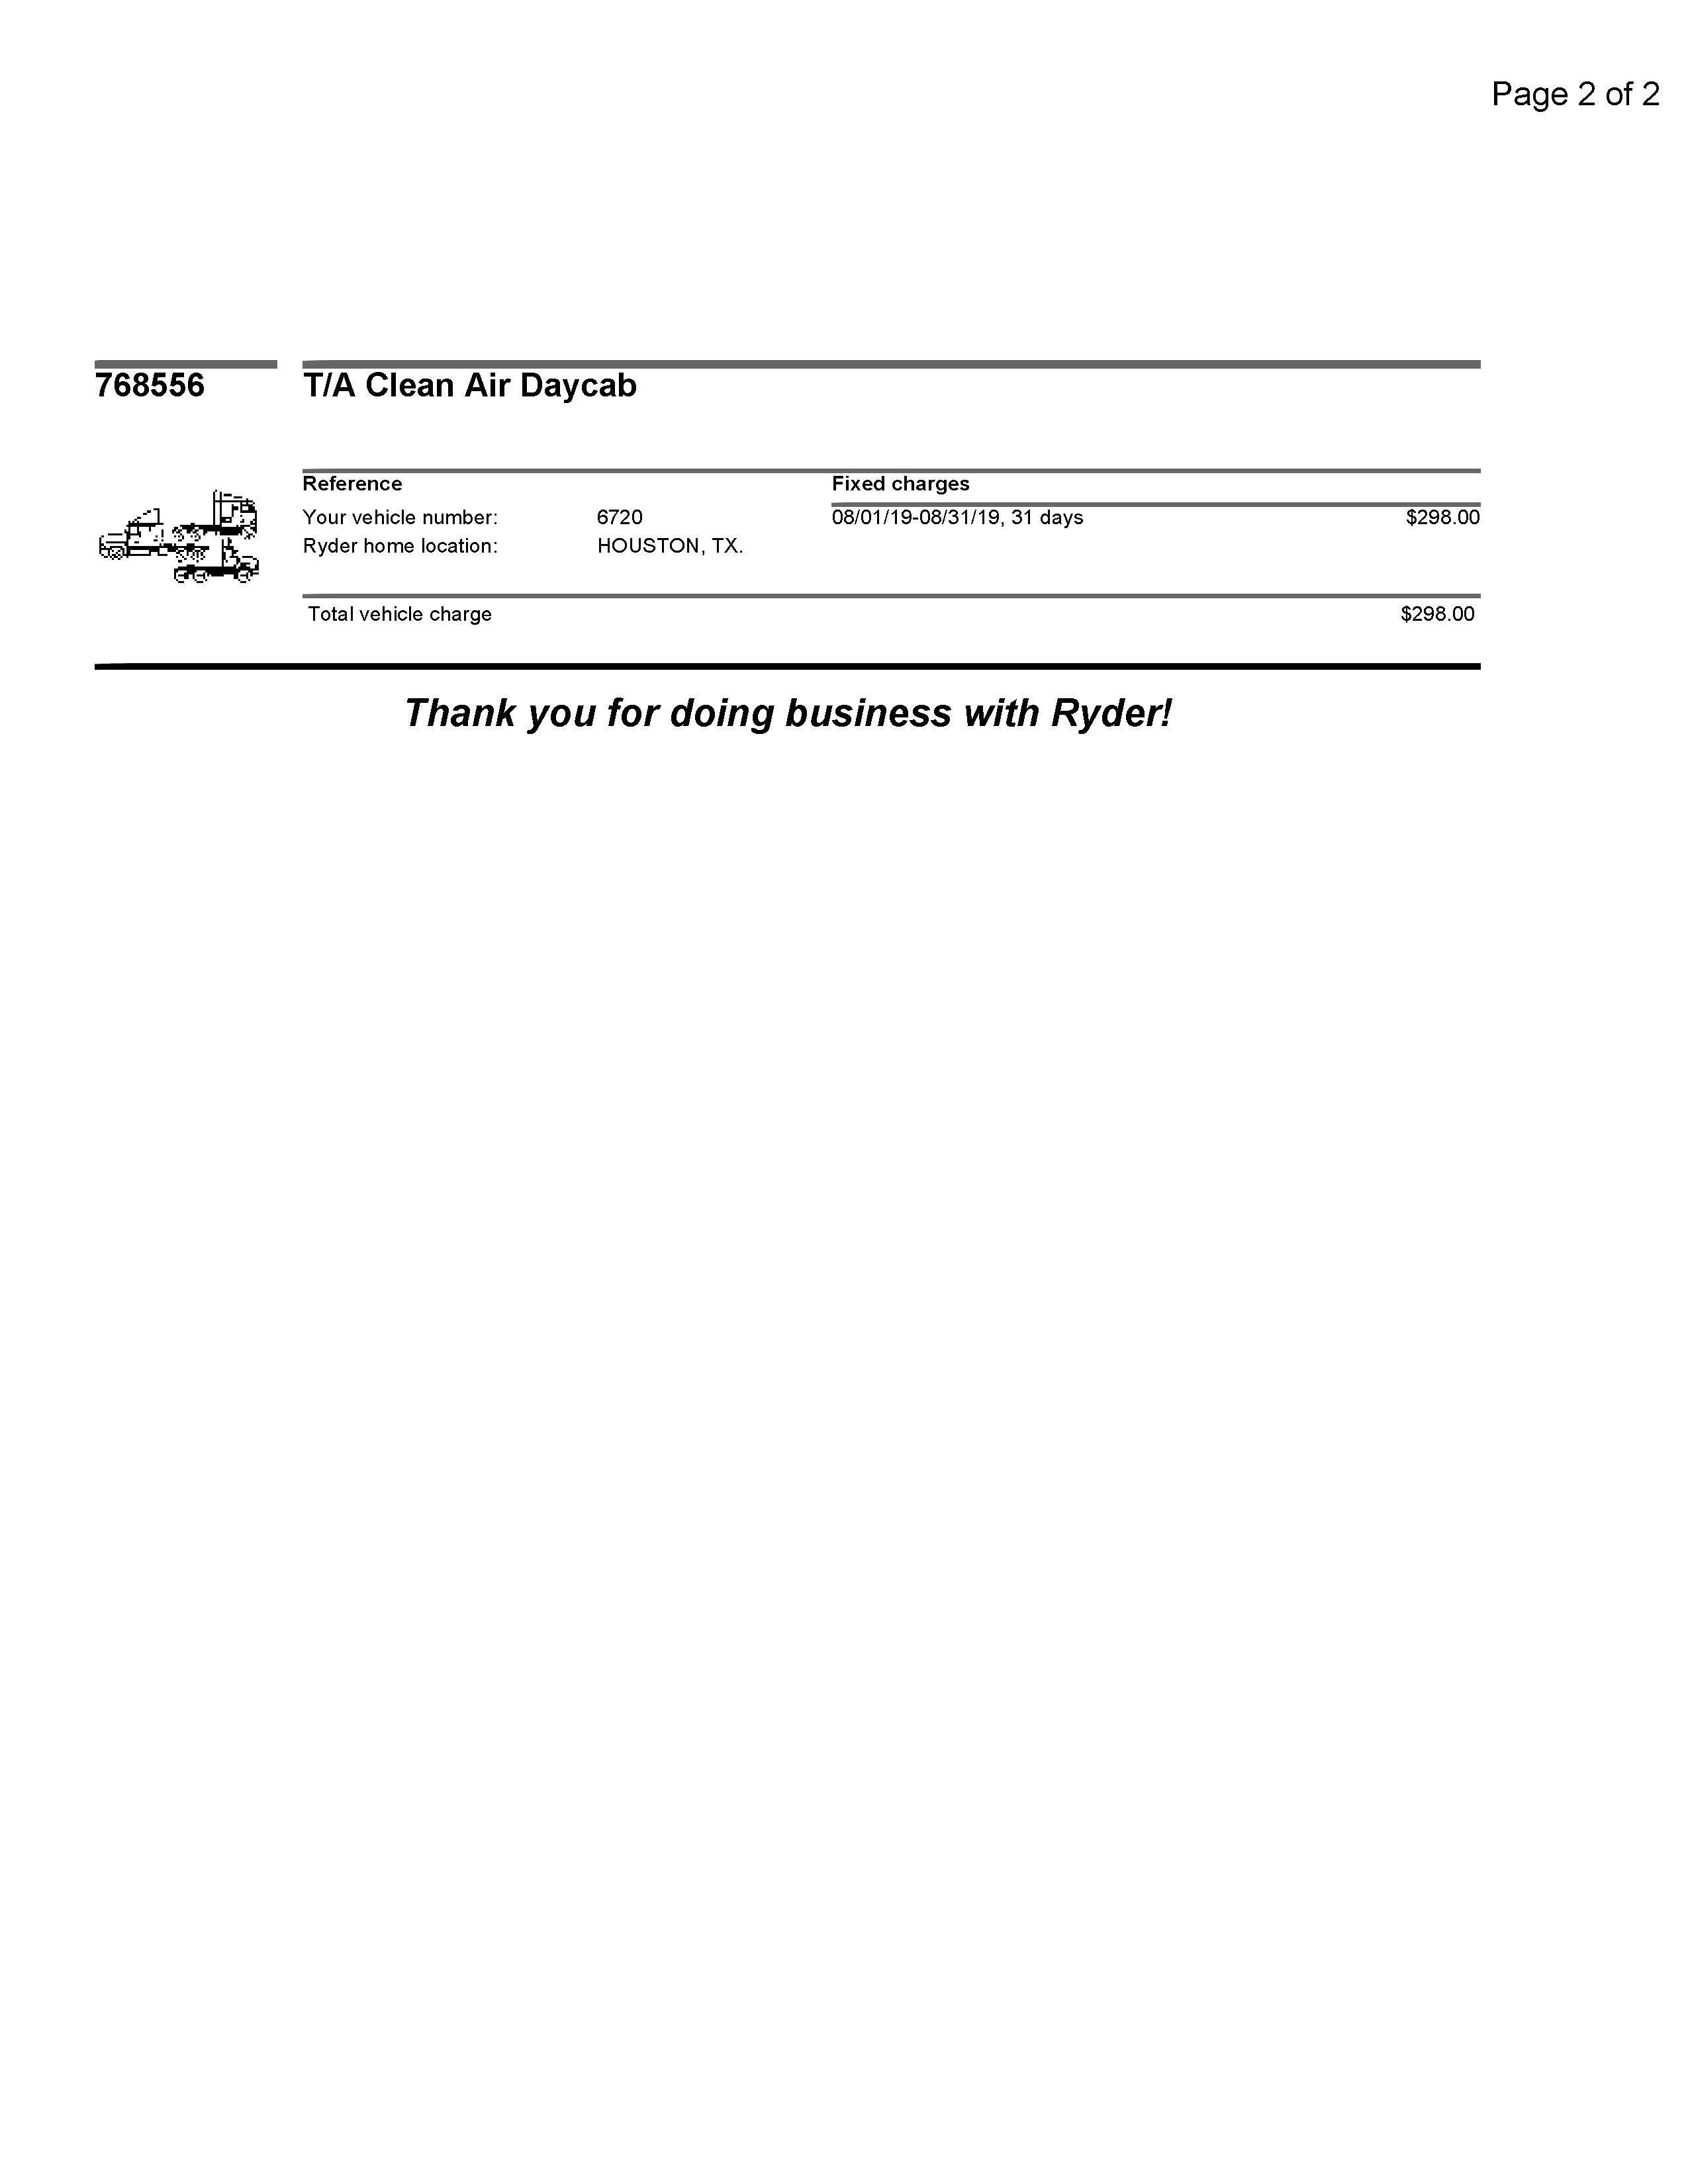B_Paragraph: (406, 681, 1183, 760), (1498, 73, 1668, 122), (87, 365, 213, 408)
B_SubTitle: (301, 363, 644, 408)
B_Table: (296, 459, 1486, 638)
